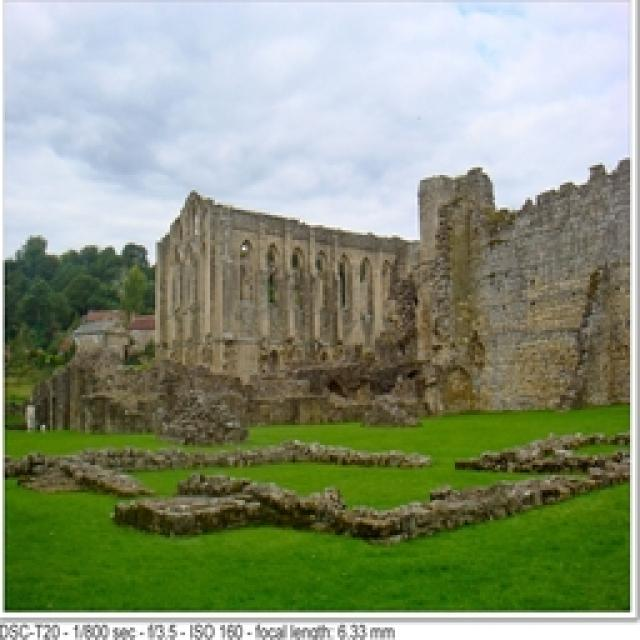Abbey: (43, 176, 640, 469)
